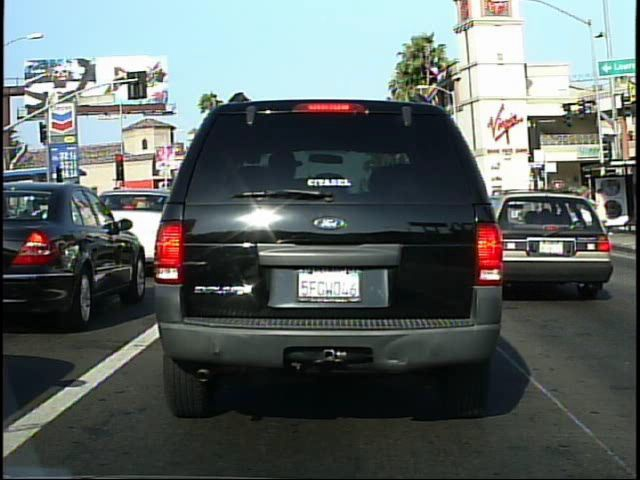person: (590, 185, 618, 241), (567, 183, 587, 239)
